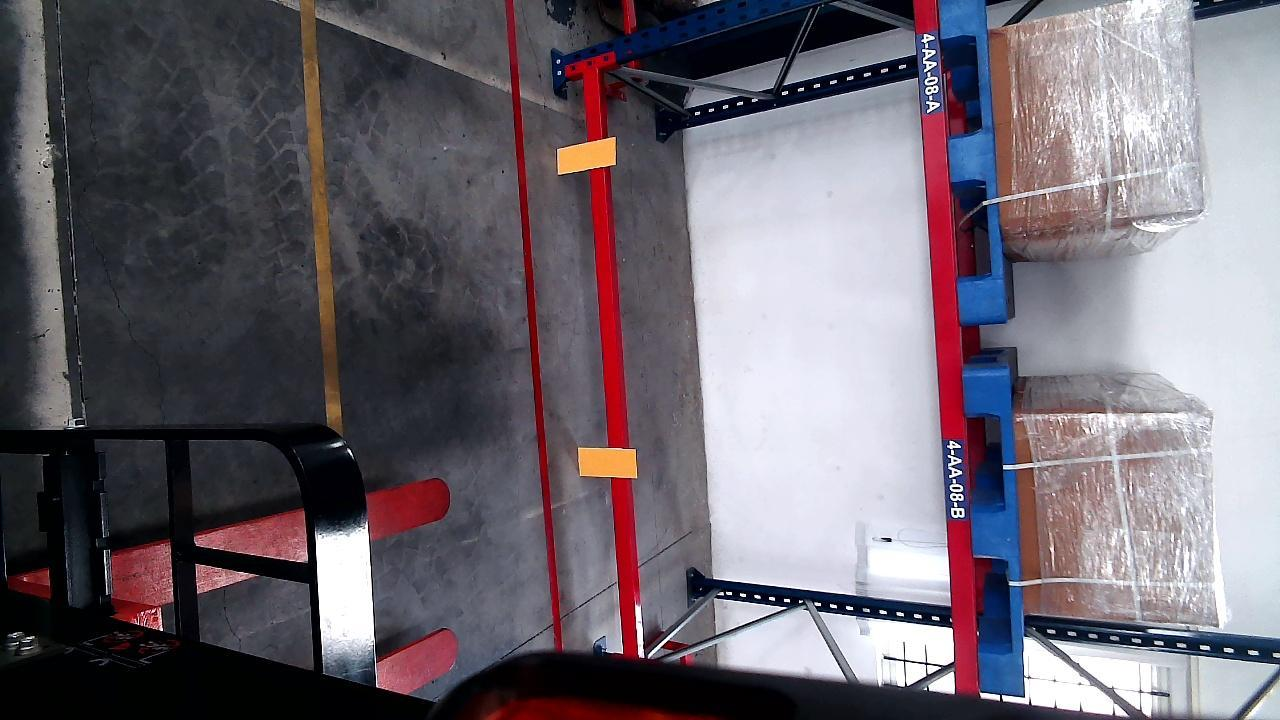red_line: (501, 1, 562, 647)
yellow_line: (303, 0, 343, 442)
